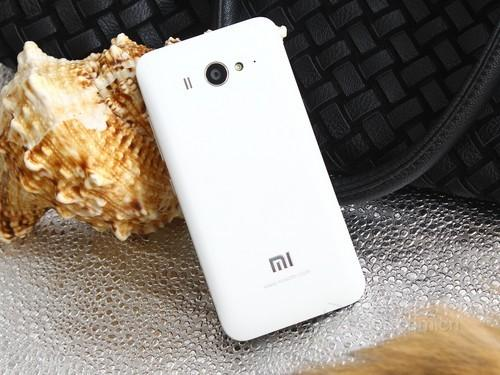phone: (139, 20, 369, 340)
